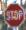Stop sign: (0, 0, 25, 29)
